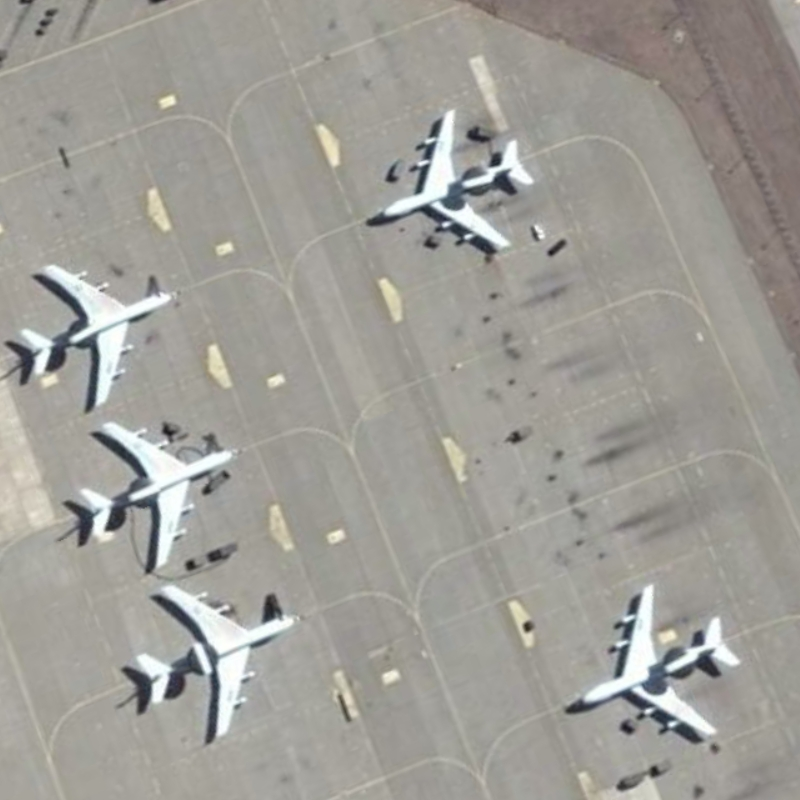A7: (123, 573, 310, 750), (58, 414, 250, 579), (574, 578, 743, 744), (361, 106, 542, 254), (16, 255, 178, 416)
